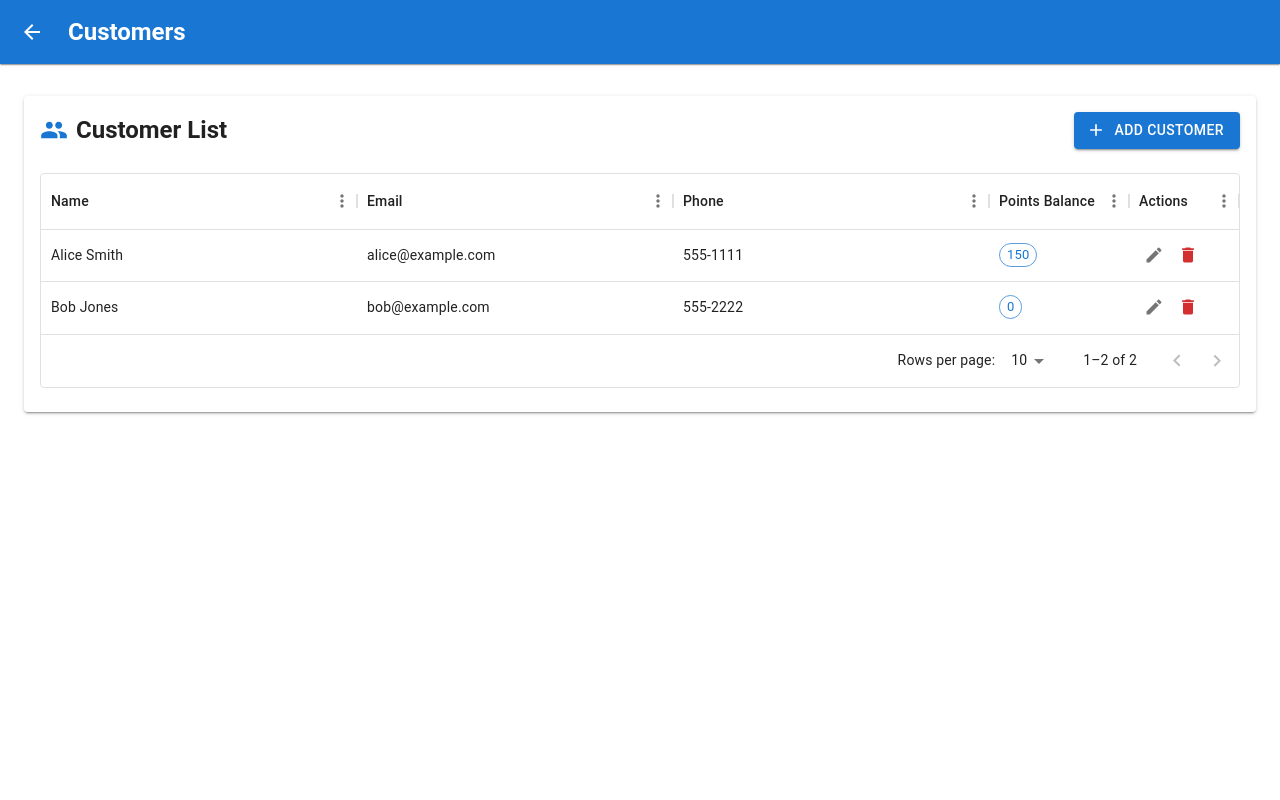
CustomersPage › Add Customer dialog › shows validation error if first name is missing
Click the button "Add Customer".
click(1157, 130)  # box [1074, 112, 1240, 148]
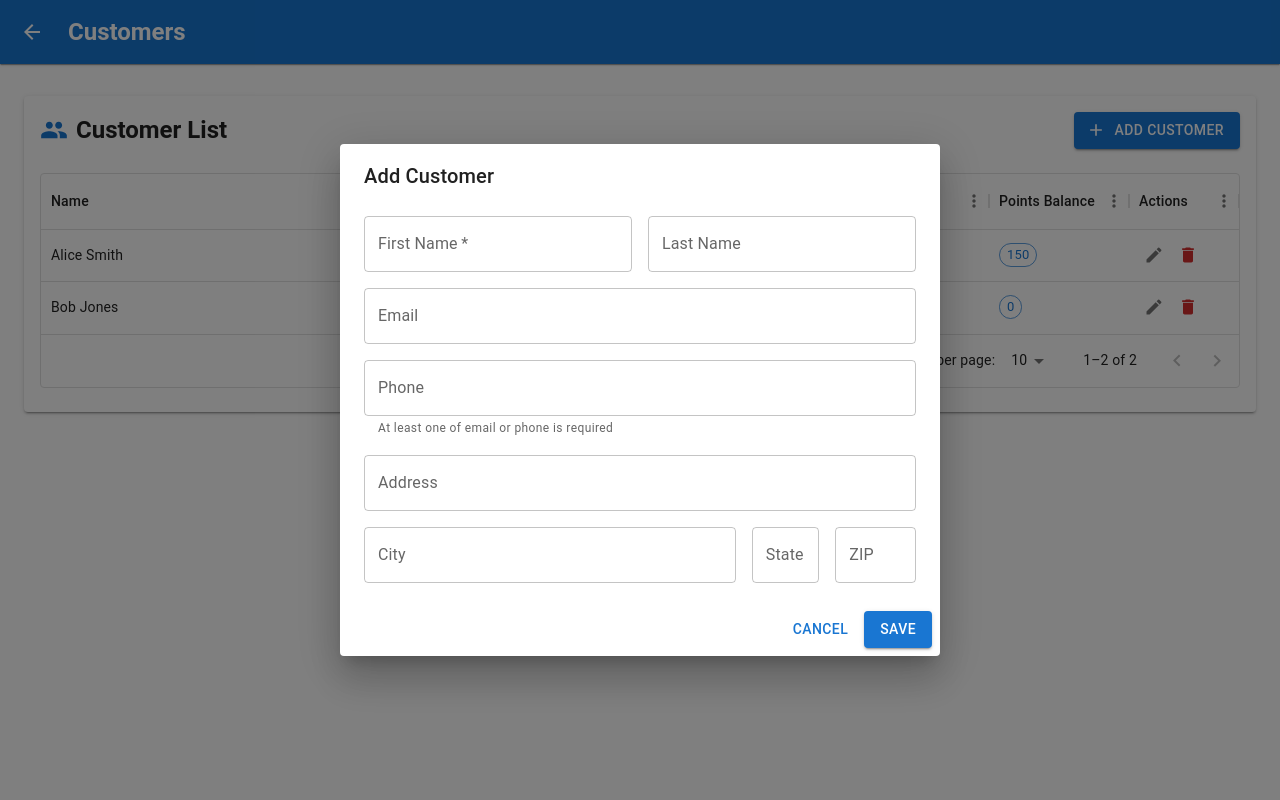
Result: the dialog is shown at [340, 144, 940, 656]
Click the button "Save".
click(898, 629)  # box [864, 611, 932, 648]
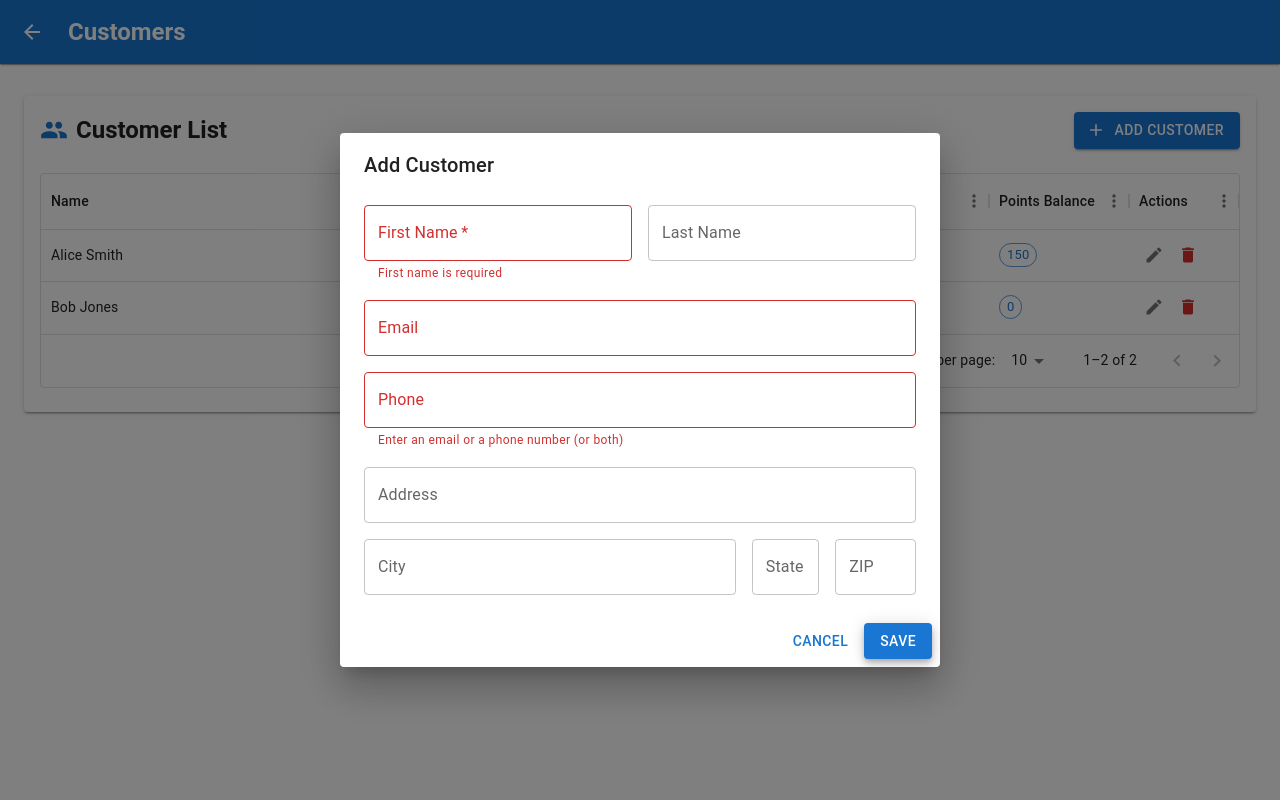
Result: the text "First name is required" is shown at [378, 266, 502, 280]
